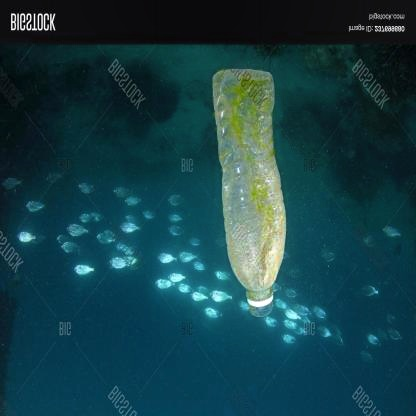pbottle: (202, 61, 299, 321)
